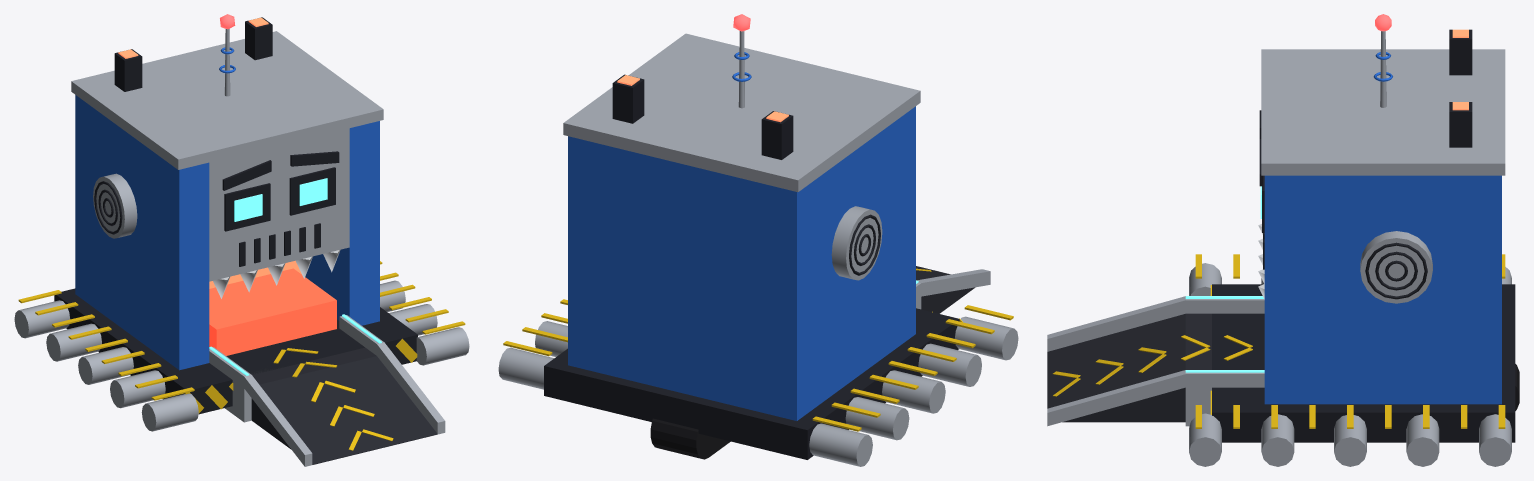
File: RobotChomperFurnace_Roblox.fbx
3 views of the same model, side by side, from view 1: azimuth 30°, elevation 25°; view 2: azimuth 150°, elevation 25°; view 3: azimuth 270°, elevation 25° (orthographic). The views are drawn at different scales.
Visible parts, largest first — view 1: RobotSteel, RobotBlue, DarkPanel, Conveyor, BurnZone, HazardYellow, LEDEyes, SteelTeeth, GrinderGlow; view 2: RobotBlue, RobotSteel, DarkPanel, HazardYellow, TreadRubber, Conveyor; view 3: RobotBlue, RobotSteel, DarkPanel, Conveyor, HazardYellow, LEDEyes.
Boxes of the visible parts, x1=… form: RobotSteel: x1=14, y1=29, x2=469, y2=466; RobotBlue: x1=75, y1=47, x2=379, y2=370; DarkPanel: x1=54, y1=17, x2=417, y2=414; Conveyor: x1=249, y1=347, x2=437, y2=464; BurnZone: x1=209, y1=268, x2=336, y2=355; HazardYellow: x1=18, y1=261, x2=465, y2=450; LEDEyes: x1=209, y1=178, x2=381, y2=375; SteelTeeth: x1=213, y1=249, x2=340, y2=298; GrinderGlow: x1=118, y1=17, x2=301, y2=288; RobotBlue: x1=568, y1=52, x2=915, y2=420; RobotSteel: x1=498, y1=31, x2=1018, y2=466; DarkPanel: x1=544, y1=74, x2=959, y2=459; HazardYellow: x1=503, y1=268, x2=1013, y2=431; TreadRubber: x1=650, y1=418, x2=730, y2=459; Conveyor: x1=916, y1=266, x2=975, y2=313; RobotBlue: x1=1264, y1=52, x2=1501, y2=404; RobotSteel: x1=1047, y1=31, x2=1511, y2=466; DarkPanel: x1=1212, y1=29, x2=1515, y2=442; Conveyor: x1=1047, y1=313, x2=1211, y2=422; HazardYellow: x1=1053, y1=254, x2=1505, y2=428; LEDEyes: x1=1185, y1=186, x2=1264, y2=372.
Size of the model in its own units: 1250 by 1325 by 1434.
